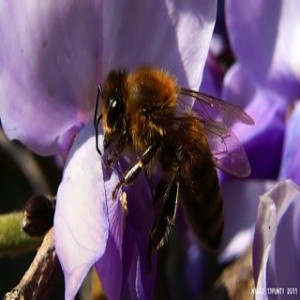bee: (93, 68, 254, 276)
